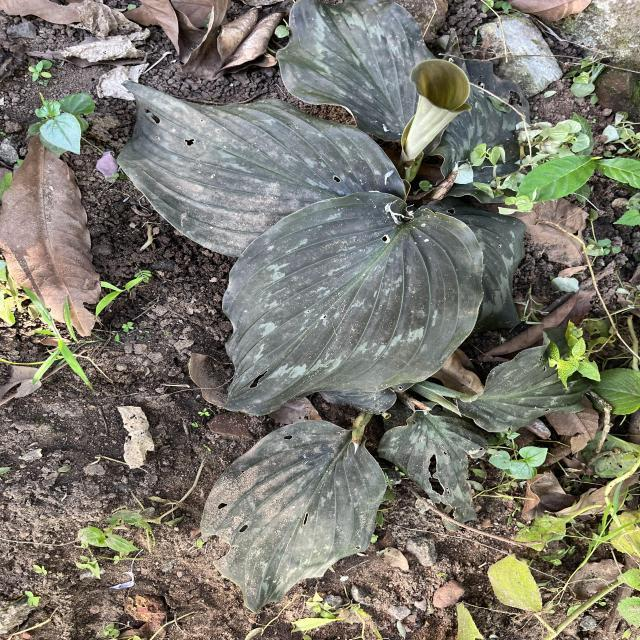Kaempferia galanga linn: (219, 188, 486, 418), (114, 74, 409, 260), (198, 418, 390, 616), (274, 0, 441, 145)
